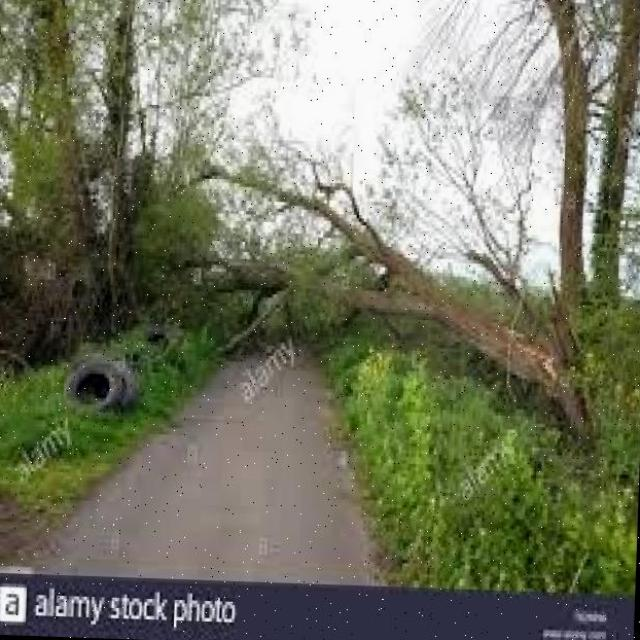fallen_object: (110, 136, 606, 441)
